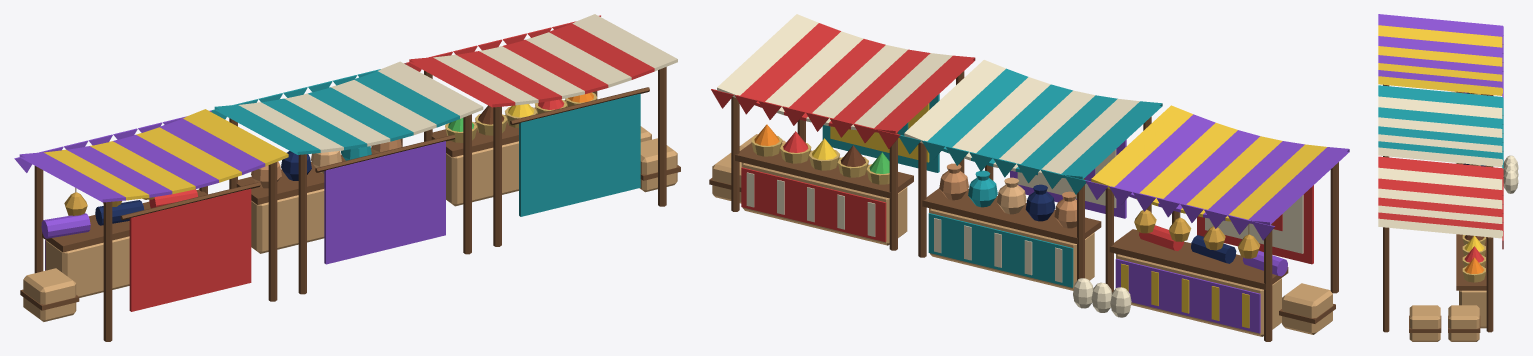
The model's file is BazaarStalls.fbx.
3 renders of one model, left to right at view 1: azimuth 30°, elevation 25°; view 2: azimuth 150°, elevation 25°; view 3: azimuth 270°, elevation 25°, orthographic. The views are drawn at different scales.
Visible parts, largest first — view 1: BazaarStalls_Purple, BazaarStalls_Red, BazaarStalls_Teal, BazaarStalls_WoodDark, BazaarStalls_Cream, BazaarStalls_WoodLight, BazaarStalls_Yellow, BazaarStalls_Navy, BazaarStalls_Thatch, BazaarStalls_Adobe, BazaarStalls_Brass; view 2: BazaarStalls_Cream, BazaarStalls_Red, BazaarStalls_Teal, BazaarStalls_WoodDark, BazaarStalls_Purple, BazaarStalls_Yellow, BazaarStalls_WoodLight, BazaarStalls_Thatch, BazaarStalls_Brass, BazaarStalls_Adobe, BazaarStalls_Navy, BazaarStalls_AdobeLight; view 3: BazaarStalls_Cream, BazaarStalls_Red, BazaarStalls_Yellow, BazaarStalls_Purple, BazaarStalls_Teal, BazaarStalls_WoodLight, BazaarStalls_WoodDark, BazaarStalls_Thatch, BazaarStalls_Orange.
Boxes of the visible parts, x1,y1,x2,y2 form: BazaarStalls_Purple: [14, 110, 445, 270]; BazaarStalls_Red: [129, 15, 654, 311]; BazaarStalls_Teal: [211, 63, 640, 216]; BazaarStalls_WoodDark: [20, 67, 680, 341]; BazaarStalls_Cream: [238, 14, 677, 152]; BazaarStalls_WoodLight: [23, 126, 677, 321]; BazaarStalls_Yellow: [44, 104, 534, 200]; BazaarStalls_Navy: [95, 151, 311, 225]; BazaarStalls_Thatch: [445, 92, 597, 142]; BazaarStalls_Adobe: [251, 139, 401, 188]; BazaarStalls_Brass: [64, 192, 154, 215]; BazaarStalls_Cream: [717, 14, 1303, 317]; BazaarStalls_Red: [711, 23, 1313, 264]; BazaarStalls_Teal: [822, 68, 1162, 287]; BazaarStalls_WoodDark: [709, 71, 1338, 341]; BazaarStalls_Purple: [1010, 114, 1349, 333]; BazaarStalls_Yellow: [812, 103, 1326, 328]; BazaarStalls_WoodLight: [712, 134, 1332, 336]; BazaarStalls_Thatch: [751, 136, 889, 184]; BazaarStalls_Brass: [1134, 209, 1260, 258]; BazaarStalls_Adobe: [939, 163, 1076, 228]; BazaarStalls_Navy: [1025, 184, 1236, 263]; BazaarStalls_AdobeLight: [997, 177, 1026, 214]; BazaarStalls_Cream: [1378, 96, 1518, 238]; BazaarStalls_Red: [1378, 156, 1503, 262]; BazaarStalls_Yellow: [1378, 25, 1502, 251]; BazaarStalls_Purple: [1378, 14, 1503, 98]; BazaarStalls_Teal: [1378, 85, 1503, 168]; BazaarStalls_WoodLight: [1409, 91, 1486, 341]; BazaarStalls_WoodDark: [1383, 84, 1493, 332]; BazaarStalls_Thatch: [1462, 235, 1485, 282]; BazaarStalls_Orange: [1464, 257, 1484, 273].
Bounding box in the file's own units: 41.5 × 9.4 × 10.8.
